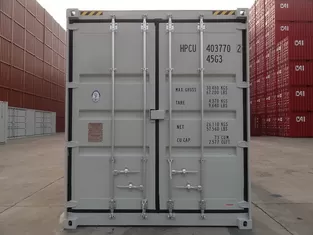ContainerNum: (178, 42, 242, 64)
